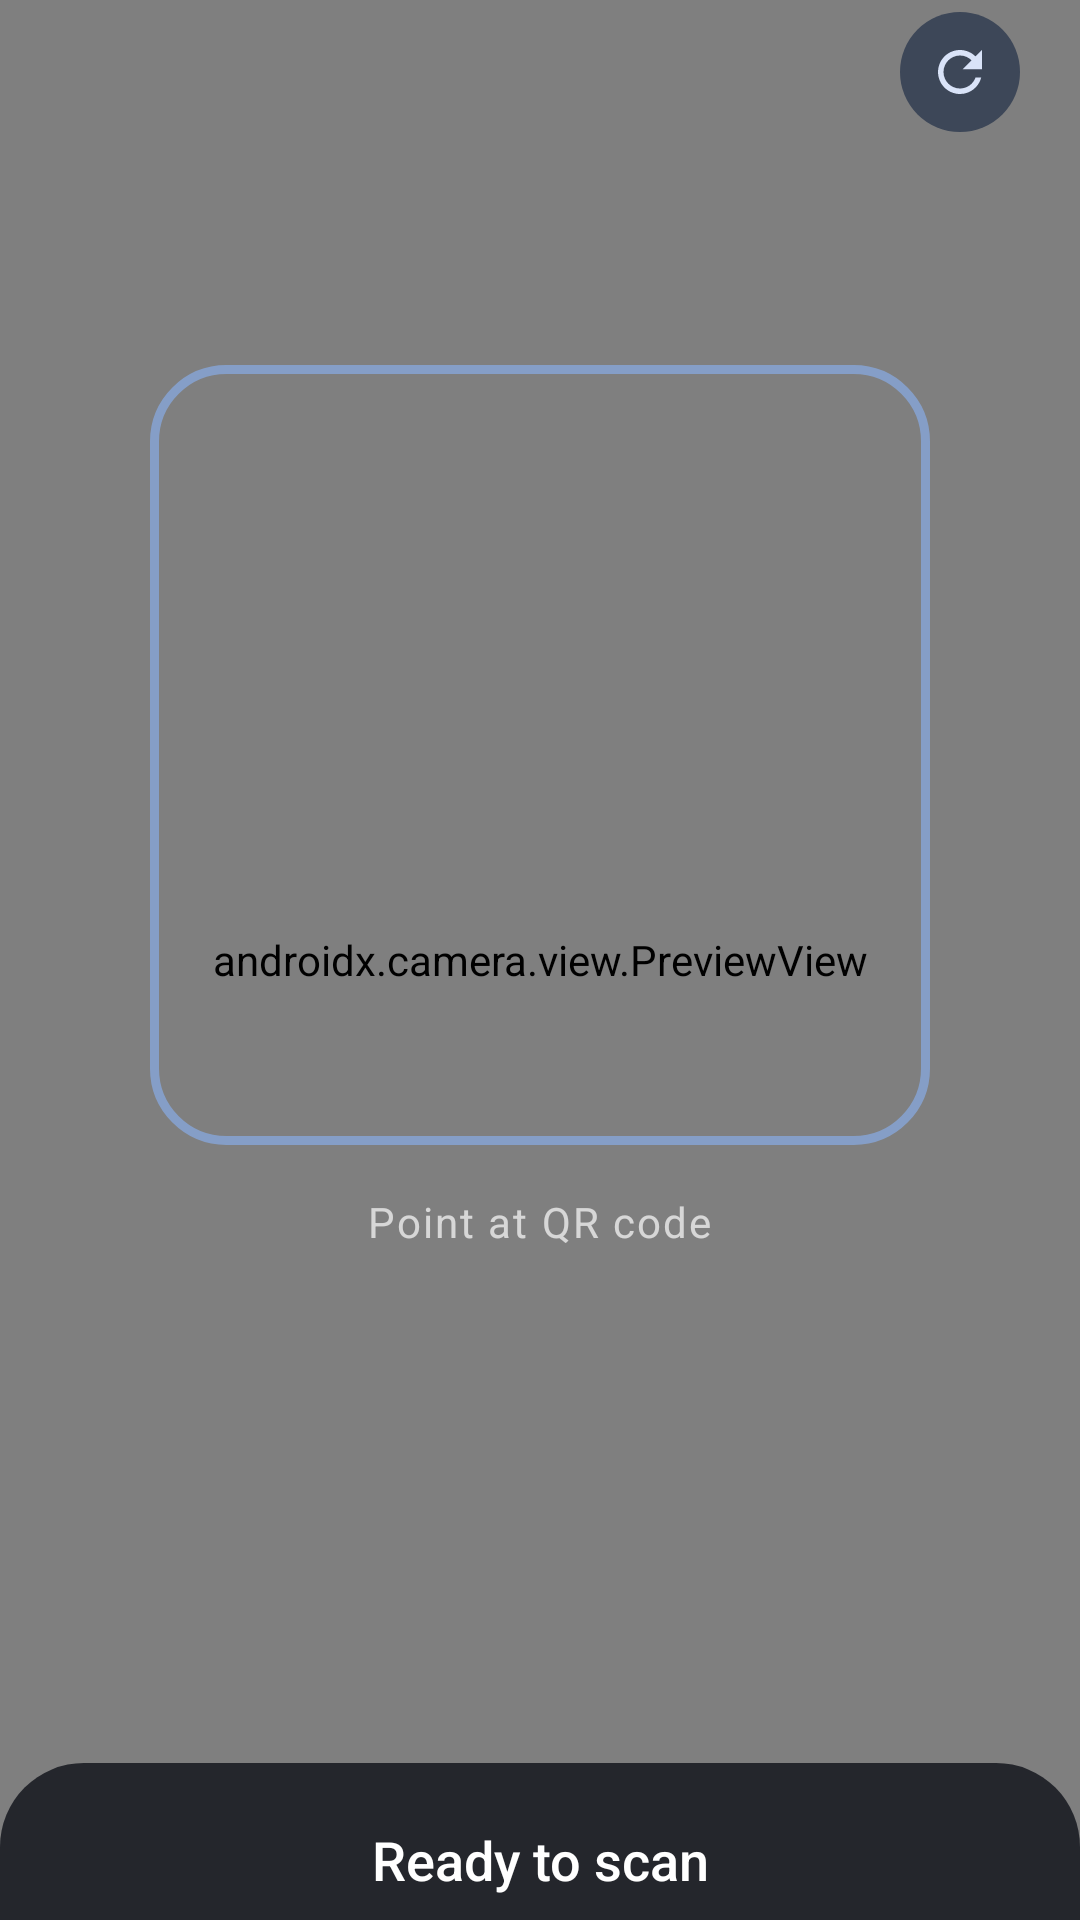

Icon click points for this 1080x1920 phone screenshot, format (x=x, y=y):
Reset session: (x=960, y=72)
